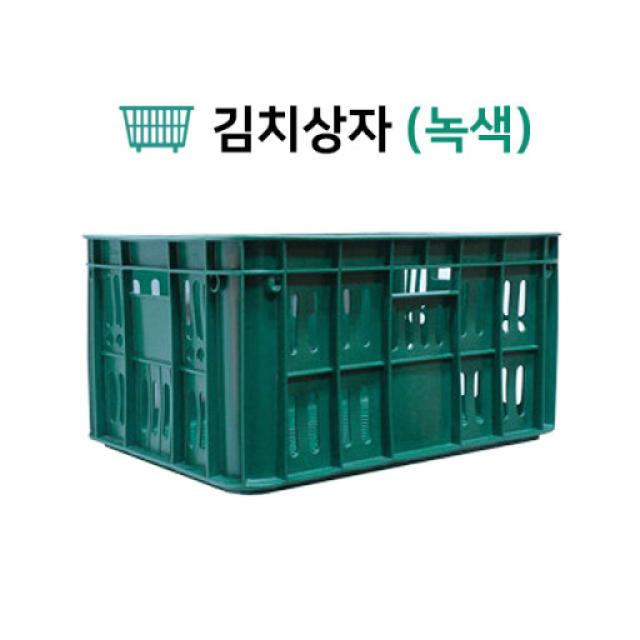basket: (89, 235, 560, 494)
